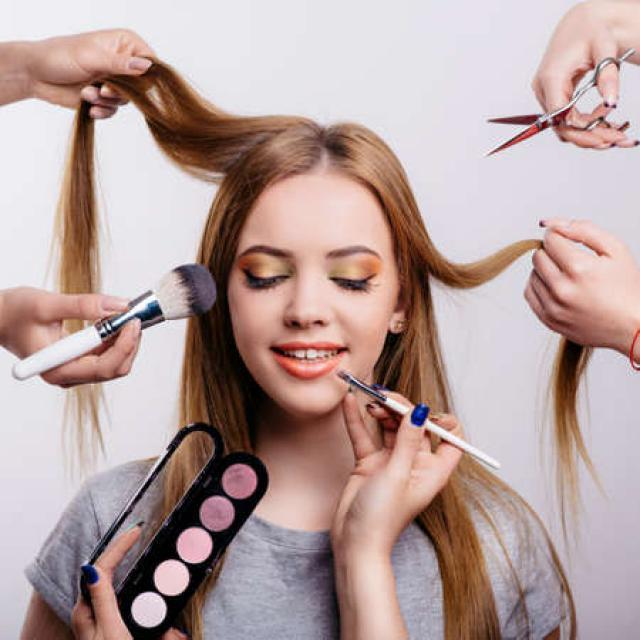tesoura: (486, 48, 638, 166)
